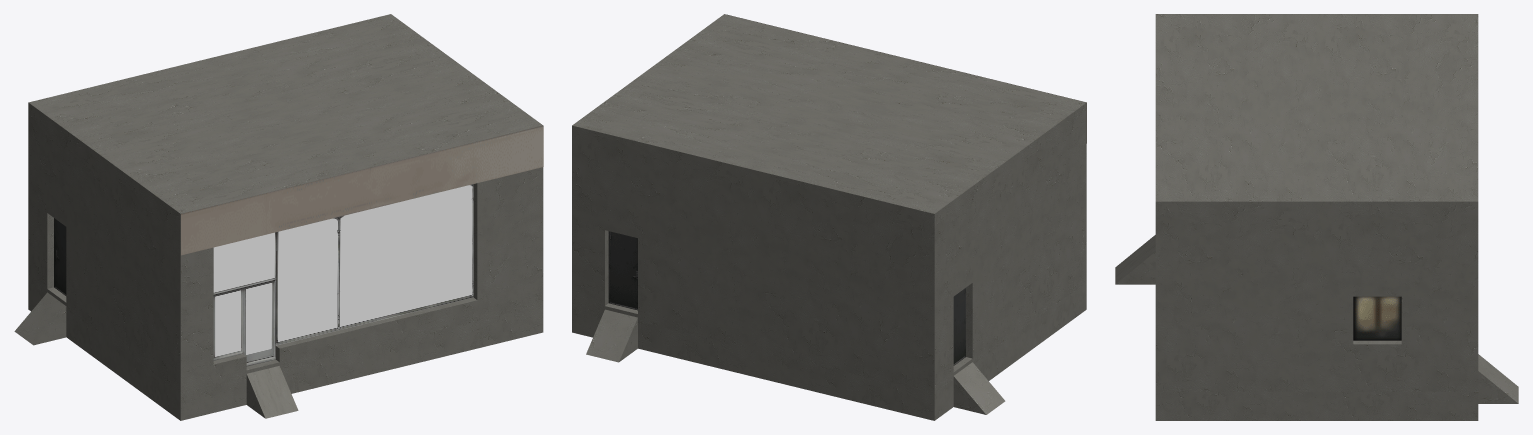
File: mid_house_5.fbx
3 views of the same model, side by side, from view 1: azimuth 30°, elevation 25°; view 2: azimuth 150°, elevation 25°; view 3: azimuth 270°, elevation 25° (orthographic). The views are drawn at different scales.
Parts seen in each view (by area): view 1: mid_house_5; view 2: mid_house_5; view 3: mid_house_5.
Part boxes in pixels (x1=…): mid_house_5: x1=14, y1=14, x2=543, y2=420; mid_house_5: x1=572, y1=14, x2=1086, y2=420; mid_house_5: x1=1115, y1=14, x2=1518, y2=420.
Size of the model in its own units: 1200 by 600 by 1000.
